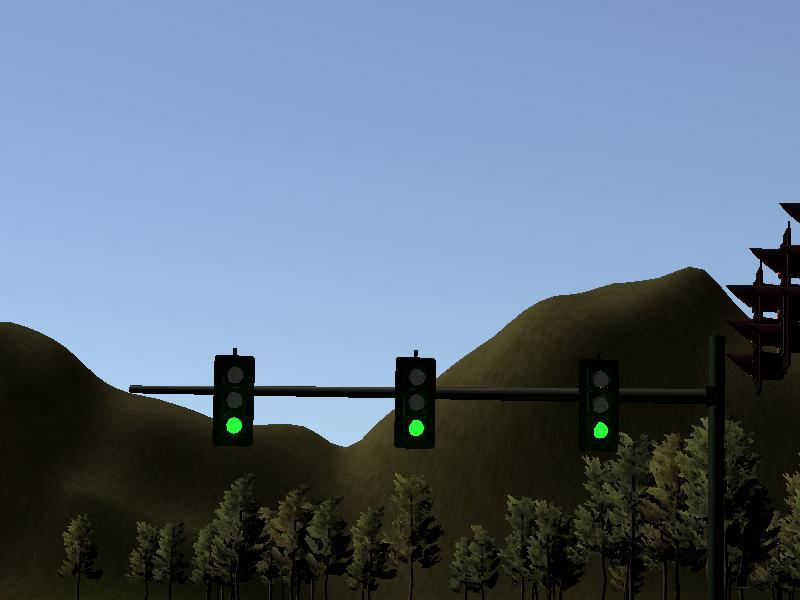Green: (396, 359, 435, 446), (215, 355, 252, 445), (582, 361, 618, 450)
